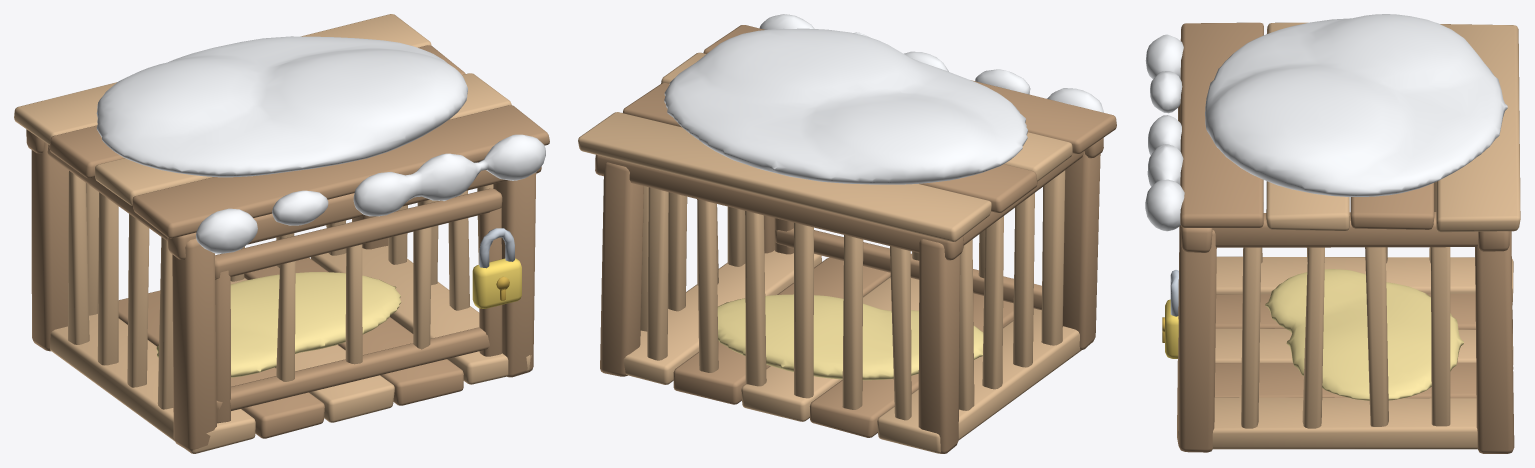
File: cage.glb
3 views of the same model, side by side, from view 1: azimuth 30°, elevation 25°; view 2: azimuth 150°, elevation 25°; view 3: azimuth 270°, elevation 25° (orthographic). The views are drawn at different scales.
Parts seen in each view (by area): view 1: RoofSnow, Roof0, Hay, Post, DoorRailHigh, Post.001, Floor0, DoorRailLow, Floor4, Post.002, Roof3, Floor3 (+20 smaller); view 2: RoofSnow, Roof3, Hay, Post.001, Post.003, BeamBack, Floor0, Post, Floor4, Floor3, Roof0, Floor1 (+18 smaller); view 3: RoofSnow, Hay, Floor4, Roof0, Roof3, Post.002, Post.003, Floor0, BeamSide.001, Floor3, BarSide.006, BarSide.007 (+10 smaller).
Boxes of the visible parts, <box> form: RoofSnow: <box>96,36,545,253</box>; Roof0: <box>132,105,549,238</box>; Hay: <box>156,272,401,377</box>; Post: <box>172,238,216,451</box>; DoorRailHigh: <box>215,188,502,279</box>; Post.001: <box>31,142,68,351</box>; Floor0: <box>50,314,255,453</box>; DoorRailLow: <box>216,327,489,410</box>; Floor4: <box>311,246,531,384</box>; Post.002: <box>493,172,536,377</box>; Roof3: <box>14,14,431,145</box>; Floor3: <box>244,257,463,405</box>; RoofSnow: <box>664,14,1103,184</box>; Roof3: <box>578,112,991,241</box>; Hay: <box>717,294,983,380</box>; Post.001: <box>918,239,960,453</box>; Post.003: <box>600,162,643,376</box>; BeamBack: <box>595,154,963,260</box>; Floor0: <box>877,308,1092,453</box>; Post: <box>1063,151,1100,349</box>; Floor4: <box>623,250,821,384</box>; Floor3: <box>673,257,890,404</box>; Roof0: <box>703,25,1116,153</box>; Floor1: <box>810,293,1013,437</box>; RoofSnow: <box>1145,14,1507,231</box>; Hay: <box>1265,269,1463,400</box>; Floor4: <box>1178,397,1477,449</box>; Roof0: <box>1180,22,1263,227</box>; Roof3: <box>1436,24,1520,232</box>; Post.002: <box>1177,225,1216,452</box>; Post.003: <box>1475,231,1514,453</box>; Floor0: <box>1216,256,1513,304</box>; BeamSide.001: <box>1212,212,1478,247</box>; Floor3: <box>1215,362,1513,398</box>; BarSide.006: <box>1365,247,1388,426</box>; BarSide.007: <box>1431,247,1450,426</box>.
Size of the model in its own units: 3.15 by 2.2 by 2.52.
